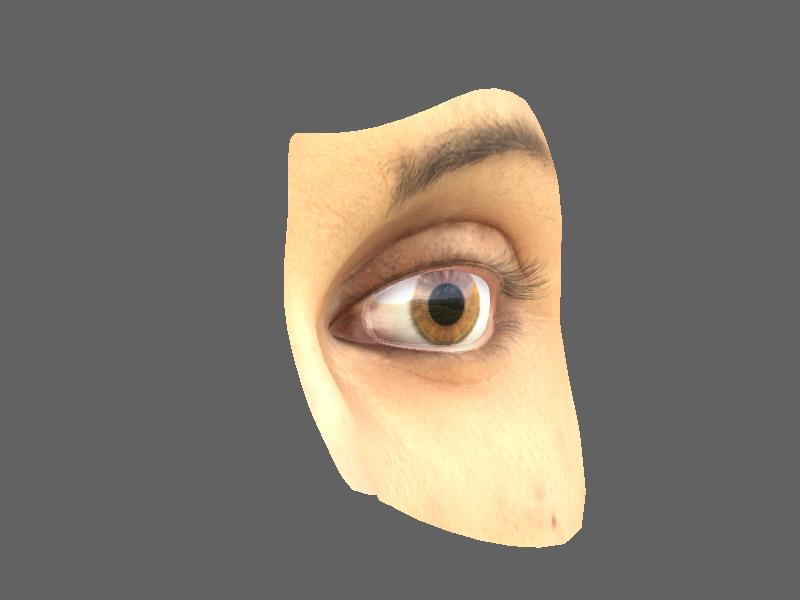iris: (408, 272, 485, 345)
